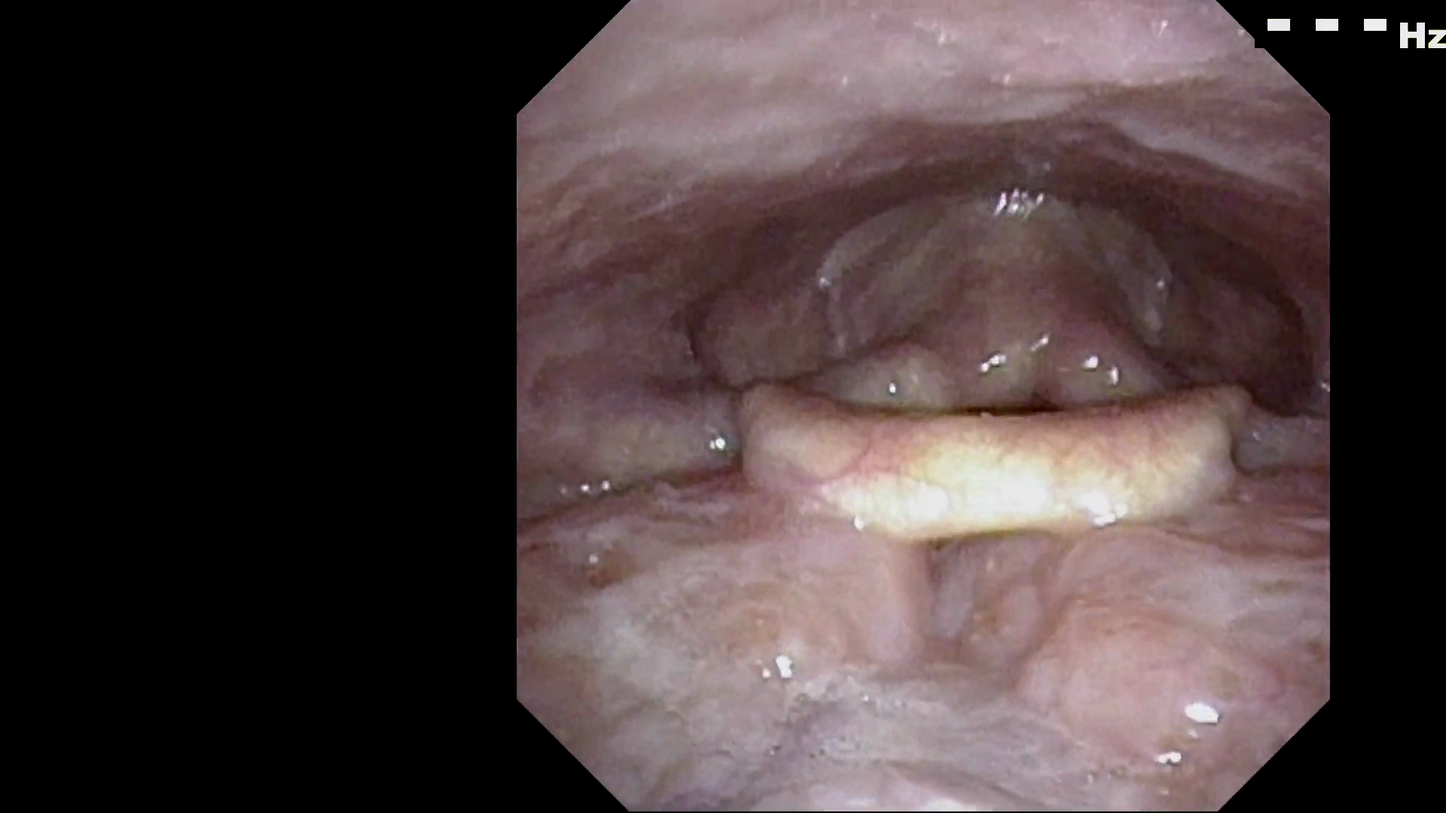epiglottis: (725, 309, 1277, 549)
